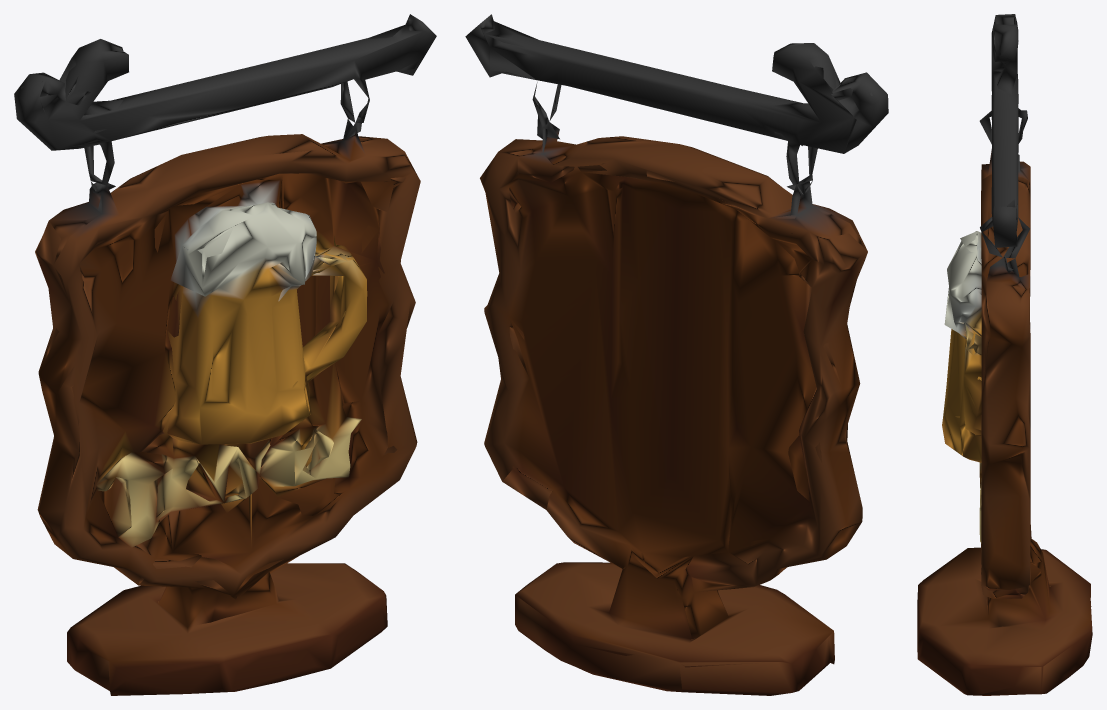
The model's file is gen3d-tavern-sign-lod0.glb.
The picture shows the model from 3 angles, left to right: view 1: azimuth 30°, elevation 25°; view 2: azimuth 150°, elevation 25°; view 3: azimuth 270°, elevation 25°; orthographic projection. The views are drawn at different scales.
Visible parts, largest first — view 1: part_0; view 2: part_0; view 3: part_0.
Part boxes in pixels (box(x1,y1,x2,y2)): part_0: box(14, 14, 436, 695); part_0: box(465, 14, 888, 695); part_0: box(917, 14, 1092, 695).
Size of the model in its own units: 0.6745 by 0.9997 by 0.2829.
